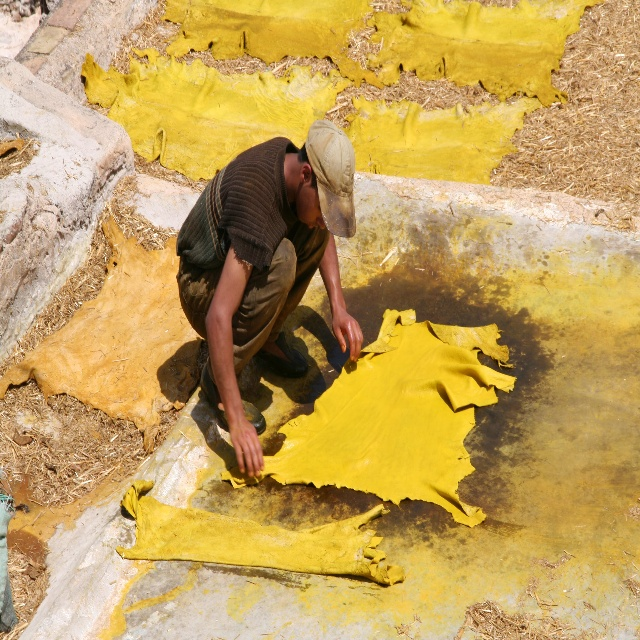Sin_guantes: (229, 414, 265, 479), (331, 307, 364, 363)
